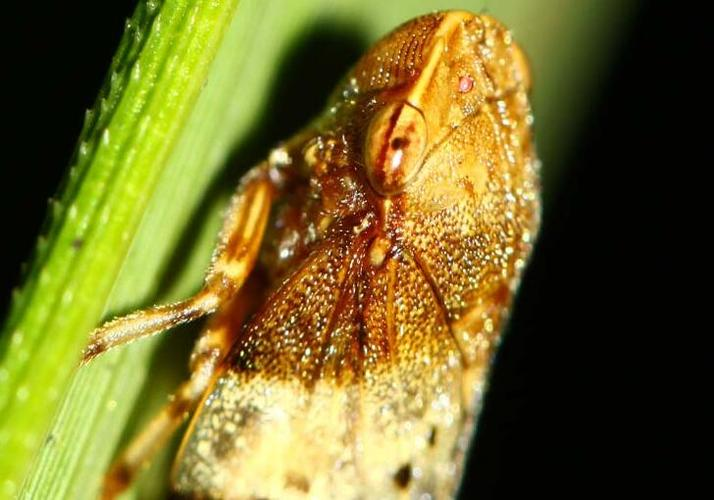Cicadellidae: (82, 11, 542, 500)
